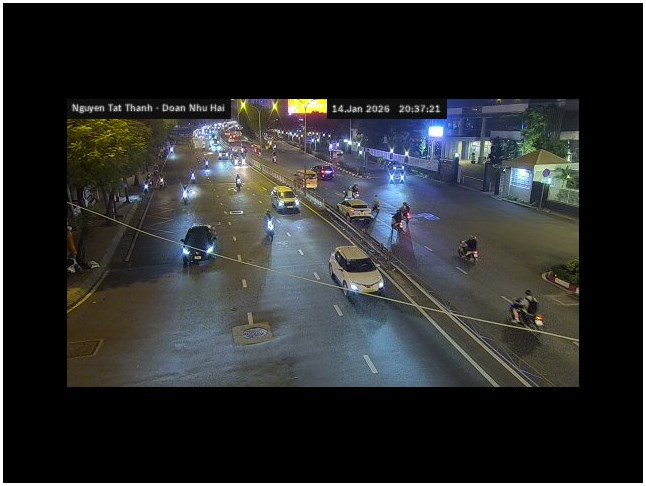car: (329, 244, 384, 295), (181, 225, 221, 265), (270, 186, 301, 216)
